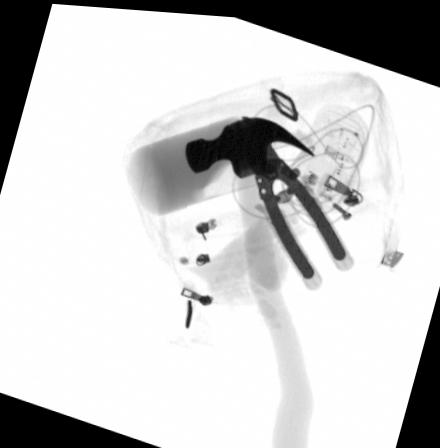Hammer: (183, 113, 315, 448)
Pliers: (227, 112, 354, 285)
